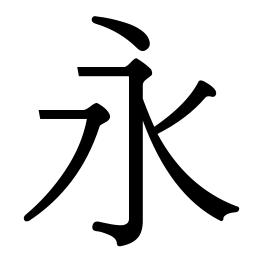D: (87, 13, 153, 52)
HSZ: (119, 56, 154, 100)
Hs: (75, 62, 108, 80)
Ne: (202, 199, 241, 224)
PNc: (147, 113, 177, 153)
PZe: (22, 199, 51, 223)
Ps: (190, 77, 217, 105)
SG: (88, 207, 146, 248)
Sm: (125, 156, 146, 187)
TPZ: (75, 102, 112, 153)
Ts: (36, 107, 57, 122)
